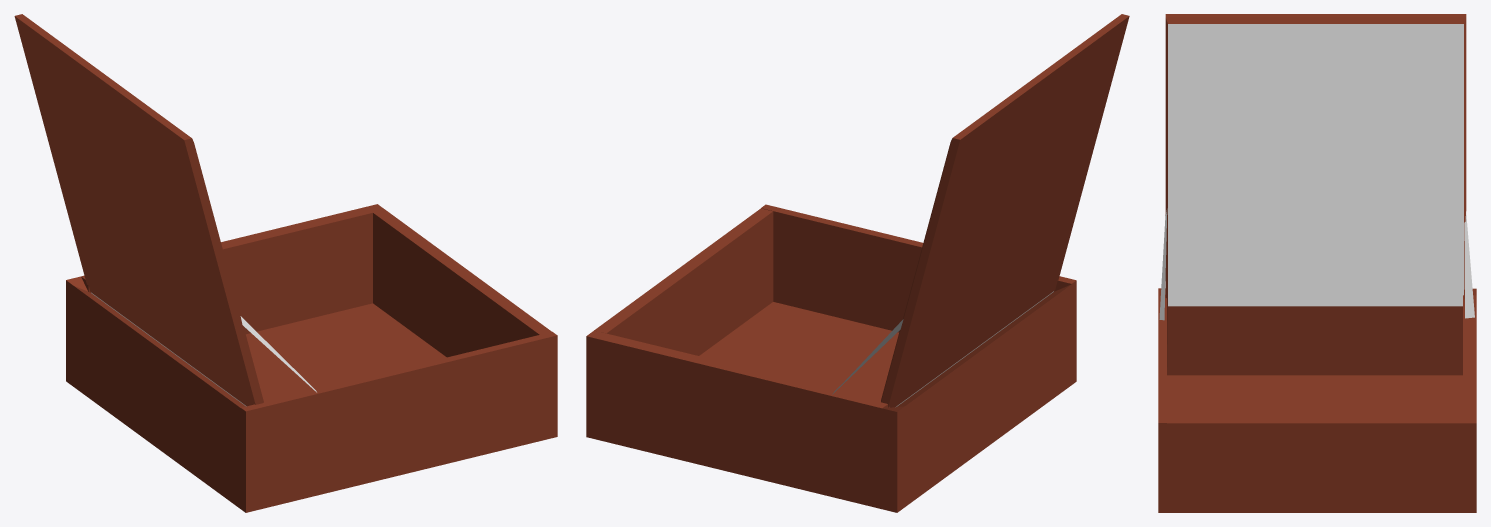
The model's file is caja.fbx.
3 renders of one model, left to right at view 1: azimuth 30°, elevation 25°; view 2: azimuth 150°, elevation 25°; view 3: azimuth 270°, elevation 25°, orthographic. The views are drawn at different scales.
Parts seen in each view (by area): view 1: Cube; view 2: Cube; view 3: Cube, Plane, Plane.001.
Part boxes in pixels (x1=…): Cube: x1=14, y1=14, x2=557, y2=512; Cube: x1=586, y1=14, x2=1129, y2=512; Cube: x1=1158, y1=14, x2=1476, y2=512; Plane: x1=1464, y1=211, x2=1474, y2=318; Plane.001: x1=1159, y1=208, x2=1167, y2=320.
Size of the model in its own units: 646 by 641 by 545.
